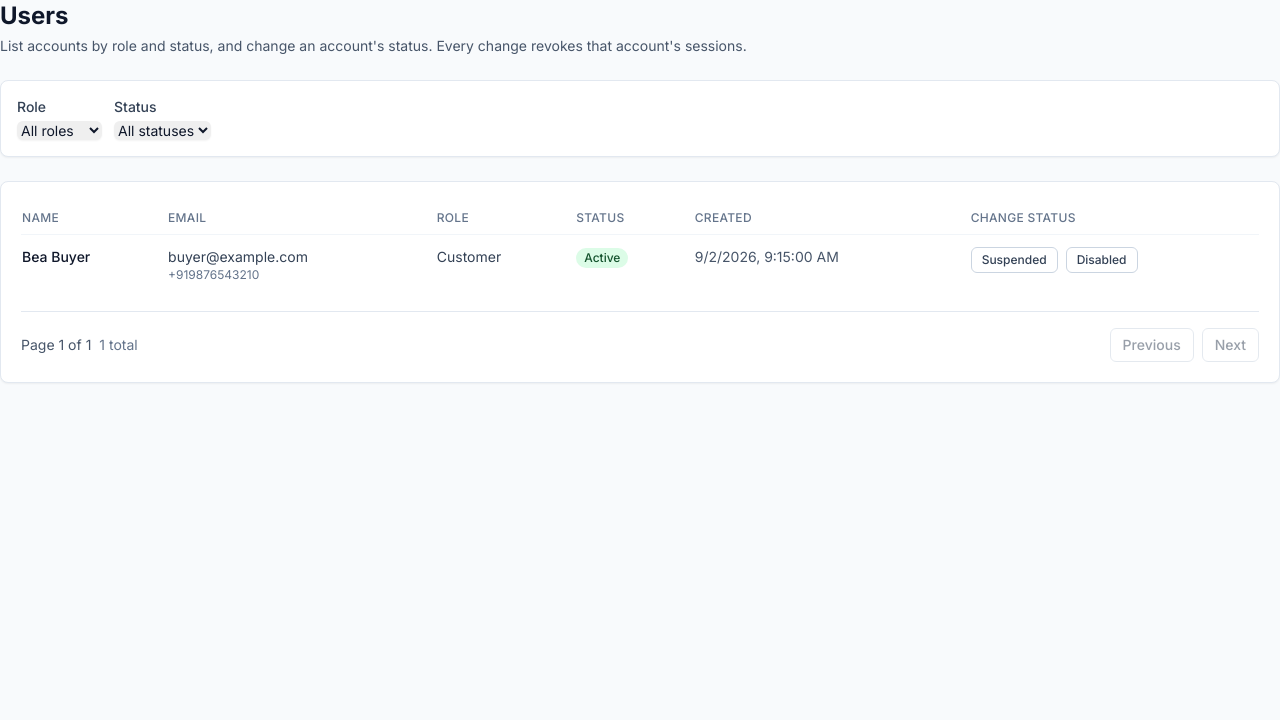
Test: AdminUsersPage › suspends an active account with a reason
The width and height of the screenshot is (1280, 720).
expect the table is shown: met, box [21,202,1259,295]
Click the button "Suspended" at x=1014, y=260, box [971,247,1058,273]
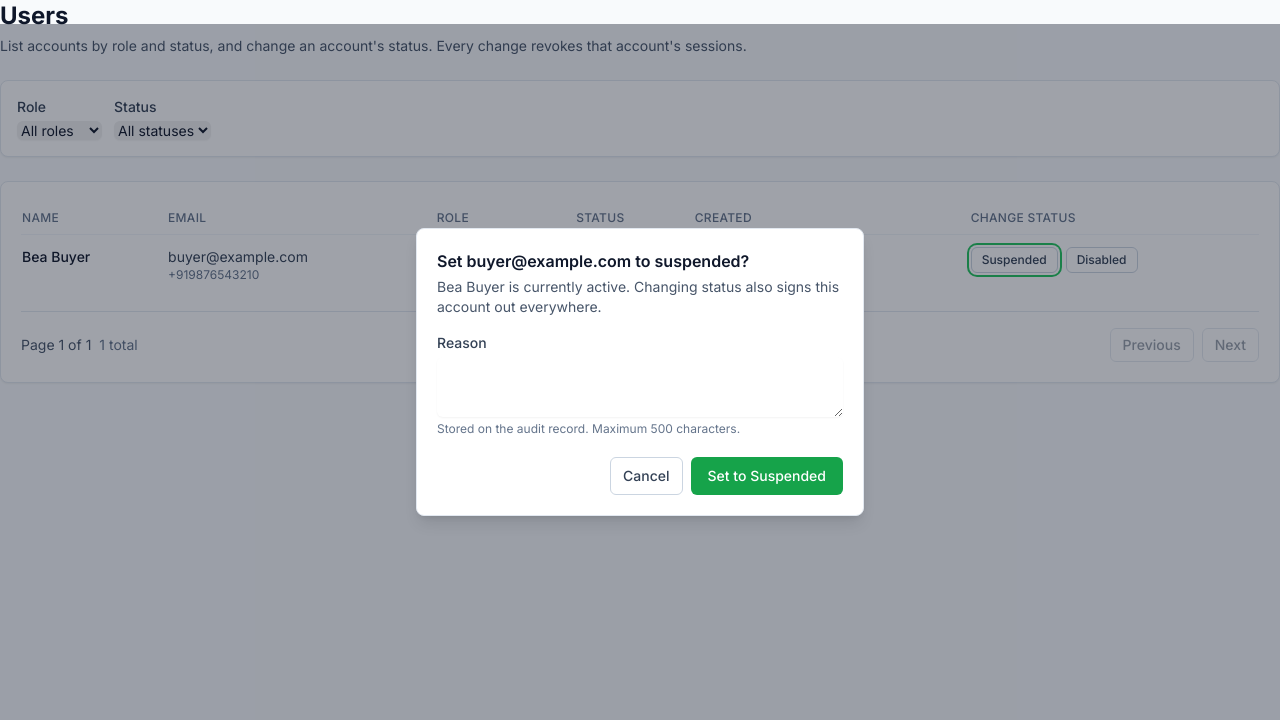
Type "Chargeback fraud" into the text box labelled "Reason" at x=640, y=387, box [437,357,843,417]
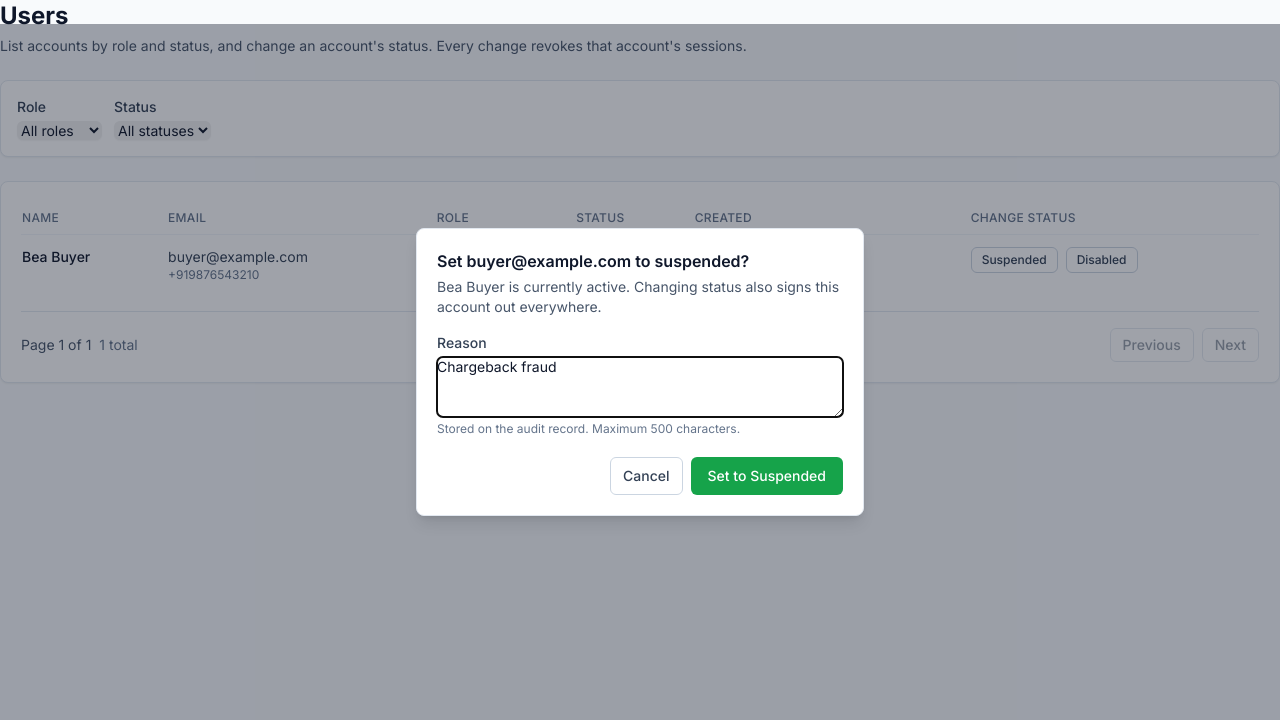
Click the button "Set to Suspended" at x=767, y=476, box [691,457,843,495]
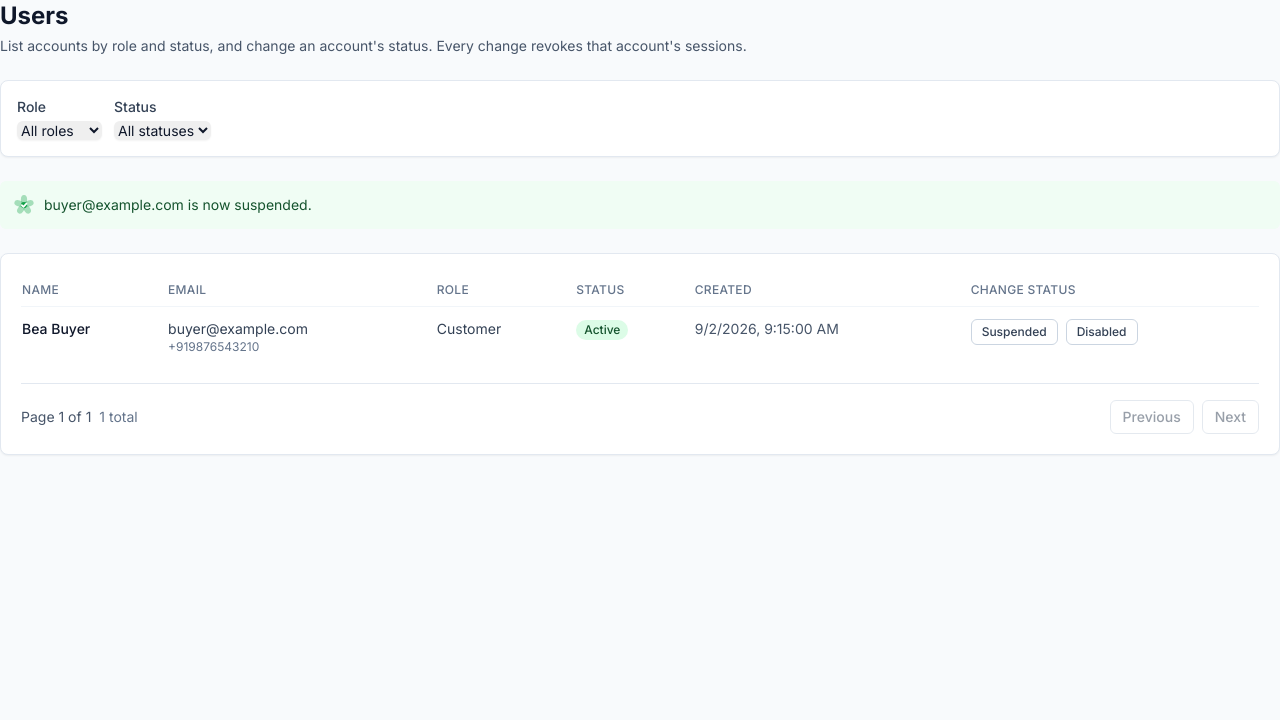
expect the text "buyer@example.com is now suspended." is shown: met, box [44,195,312,215]
